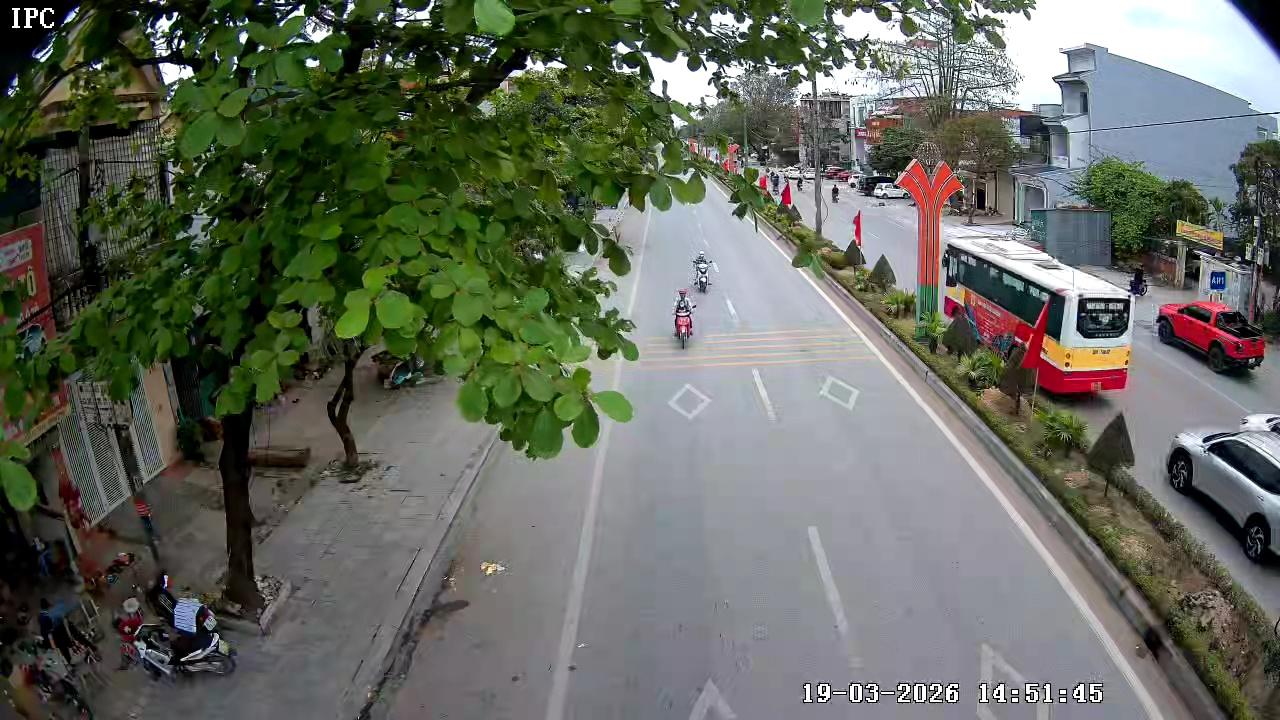bus: (946, 236, 1134, 399)
car: (1163, 416, 1279, 567), (1153, 299, 1267, 378)
motorbike: (133, 580, 240, 683), (669, 287, 700, 351), (689, 249, 716, 295)
truck: (1151, 297, 1268, 377)
